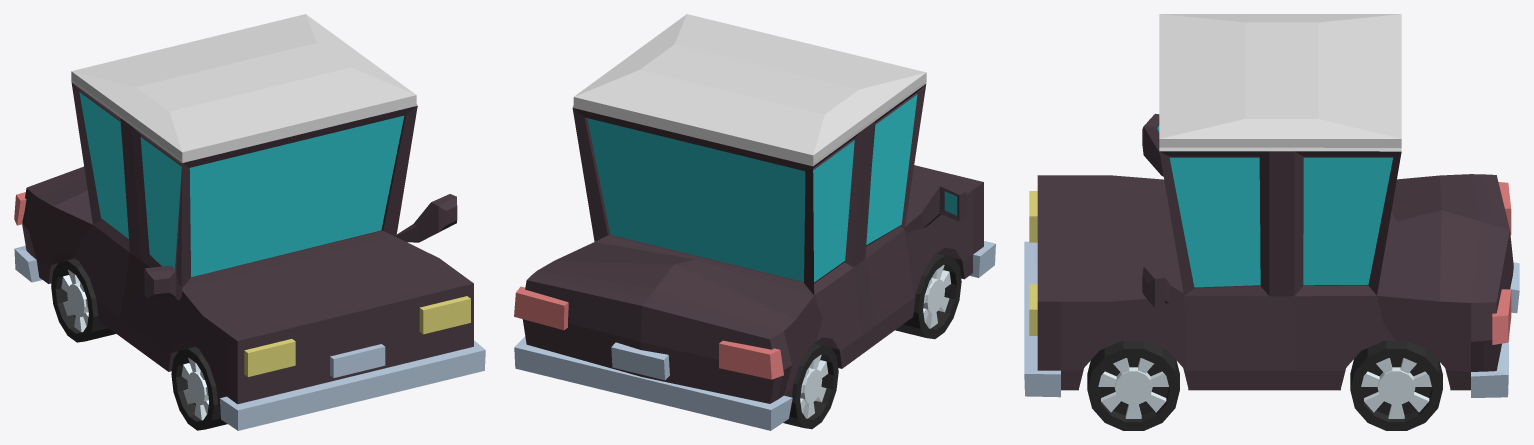
File: Car_02_v1.fbx
3 views of the same model, side by side, from view 1: azimuth 30°, elevation 25°; view 2: azimuth 150°, elevation 25°; view 3: azimuth 270°, elevation 25° (orthographic). The views are drawn at different scales.
Parts seen in each view (by area): view 1: Car_01; view 2: Car_01; view 3: Car_01.
Part boxes in pixels (x1,y1,x2,y2): Car_01: (14,14,485,430); Car_01: (514,14,995,430); Car_01: (1024,14,1519,430).
Size of the model in its own units: 524 by 438 by 664.
